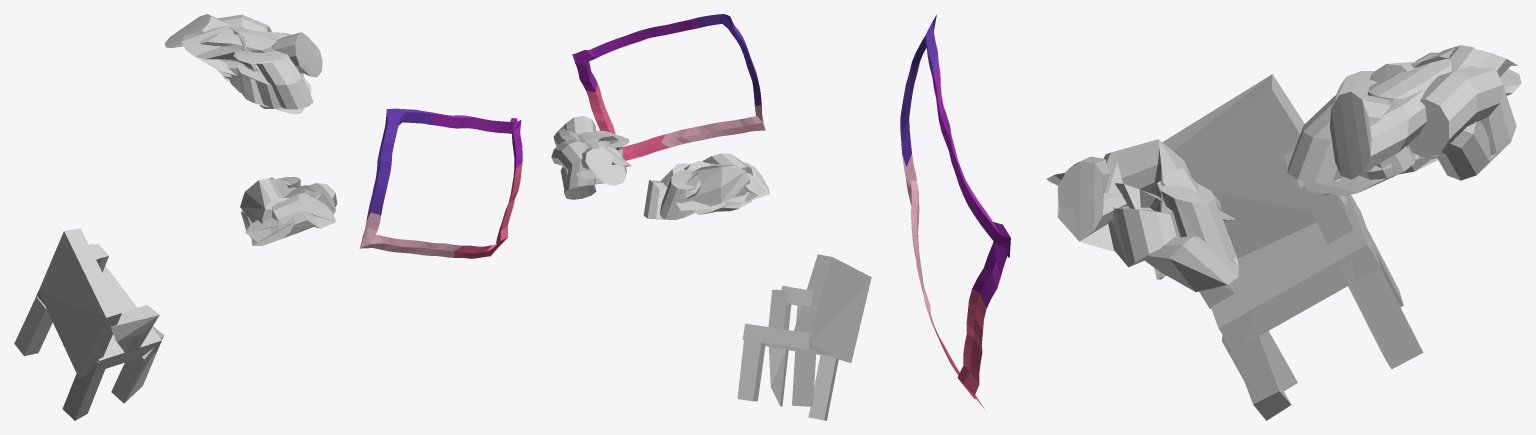
3 views of the same model, side by side, from view 1: azimuth 30°, elevation 25°; view 2: azimuth 150°, elevation 25°; view 3: azimuth 270°, elevation 25° (orthographic). The views are drawn at different scales.
Visible parts, largest first — view 1: mesh_1726774562, group_415487804, group_2126124987, group_282592159, group_770370704, mesh_331366741, mesh_247896342, mesh_927174332, mesh_1676442011, mesh_1565945158; view 2: group_282592159, group_415487804, mesh_1726774562, group_2126124987, mesh_331366741, mesh_631790507, mesh_247896342, mesh_1676442011, mesh_927174332, mesh_1123002529, mesh_1481601367; view 3: group_2126124987, group_282592159, mesh_1726774562, mesh_331366741, group_415487804, group_770370704, mesh_631790507, mesh_927174332, mesh_1123002529, mesh_1676442011.
Part boxes in pixels (x1=…): mesh_1726774562: x1=40, y1=228, x2=121, y2=378; group_415487804: x1=359, y1=108, x2=522, y2=258; group_2126124987: x1=164, y1=14, x2=322, y2=92; group_282592159: x1=240, y1=177, x2=337, y2=245; group_770370704: x1=233, y1=49, x2=313, y2=114; mesh_331366741: x1=36, y1=265, x2=161, y2=371; mesh_247896342: x1=14, y1=296, x2=52, y2=356; mesh_927174332: x1=111, y1=326, x2=163, y2=403; mesh_1676442011: x1=62, y1=361, x2=105, y2=420; mesh_1565945158: x1=111, y1=305, x2=159, y2=341; group_282592159: x1=643, y1=153, x2=769, y2=219; group_415487804: x1=572, y1=14, x2=765, y2=160; mesh_1726774562: x1=794, y1=254, x2=871, y2=362; group_2126124987: x1=551, y1=116, x2=631, y2=199; mesh_331366741: x1=742, y1=323, x2=830, y2=355; mesh_631790507: x1=737, y1=328, x2=765, y2=401; mesh_247896342: x1=792, y1=347, x2=816, y2=406; mesh_1676442011: x1=808, y1=354, x2=838, y2=420; mesh_927174332: x1=769, y1=347, x2=788, y2=406; mesh_1123002529: x1=768, y1=289, x2=791, y2=329; mesh_1481601367: x1=781, y1=285, x2=813, y2=306; group_2126124987: x1=1330, y1=45, x2=1521, y2=180; group_282592159: x1=1046, y1=139, x2=1238, y2=291; mesh_1726774562: x1=1162, y1=74, x2=1356, y2=258; mesh_331366741: x1=1211, y1=195, x2=1380, y2=350; group_415487804: x1=900, y1=14, x2=1010, y2=410; group_770370704: x1=1287, y1=71, x2=1415, y2=195; mesh_631790507: x1=1340, y1=250, x2=1423, y2=369; mesh_927174332: x1=1222, y1=312, x2=1291, y2=420; mesh_1123002529: x1=1297, y1=180, x2=1353, y2=244; mesh_1676442011: x1=1259, y1=331, x2=1297, y2=390.
Size of the model in its own units: 193 by 160 by 166.
